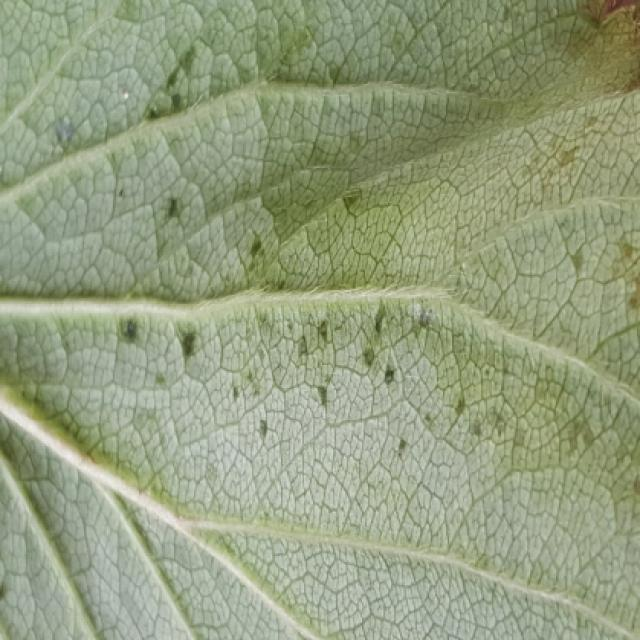Angular Leafspot: (105, 36, 638, 465)
